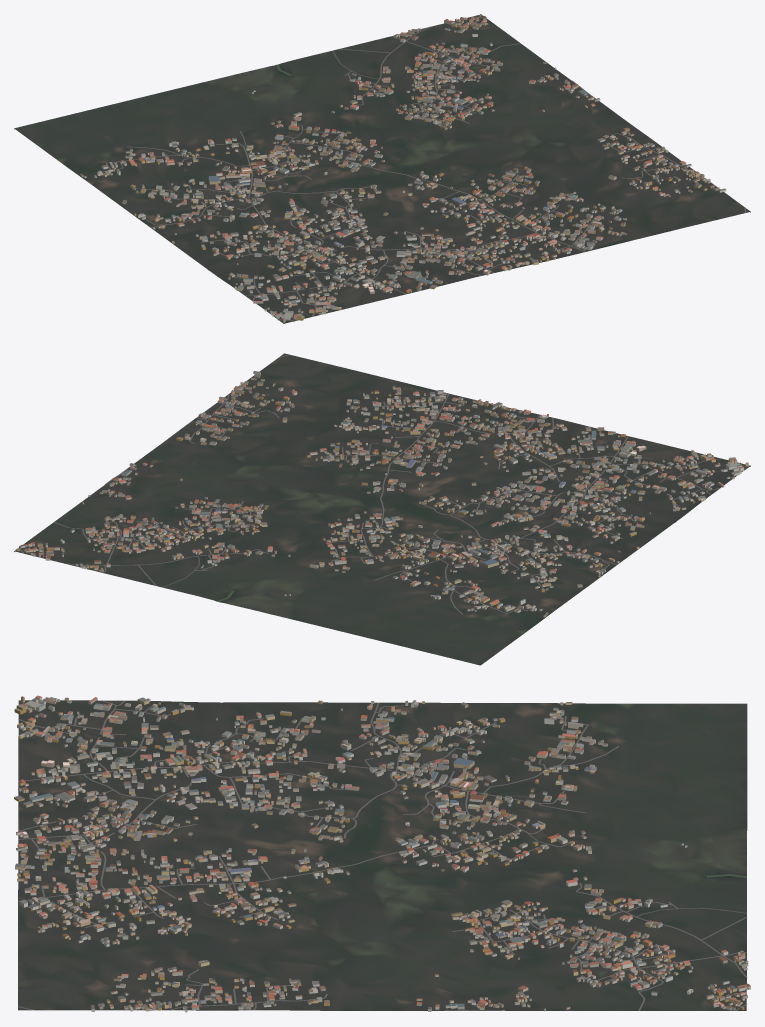
3 renders of one model, top to bottom at view 1: azimuth 30°, elevation 25°; view 2: azimuth 150°, elevation 25°; view 3: azimuth 270°, elevation 25°, orthographic. The views are drawn at different scales.
Visible parts, largest first — view 1: ground, buildings, roads; view 2: ground, buildings, roads; view 3: ground, buildings, roads.
Boxes of the visible parts, x1,y1,x2,y2 form: ground: (14, 15, 750, 323); buildings: (79, 14, 726, 322); roads: (102, 16, 746, 321); ground: (14, 353, 750, 665); buildings: (16, 371, 748, 617); roads: (18, 354, 745, 614); ground: (18, 700, 747, 1010); buildings: (14, 695, 750, 1012); roads: (18, 700, 747, 1010).
Bounding box in the file's own units: 1413 × 22.76 × 1417.
